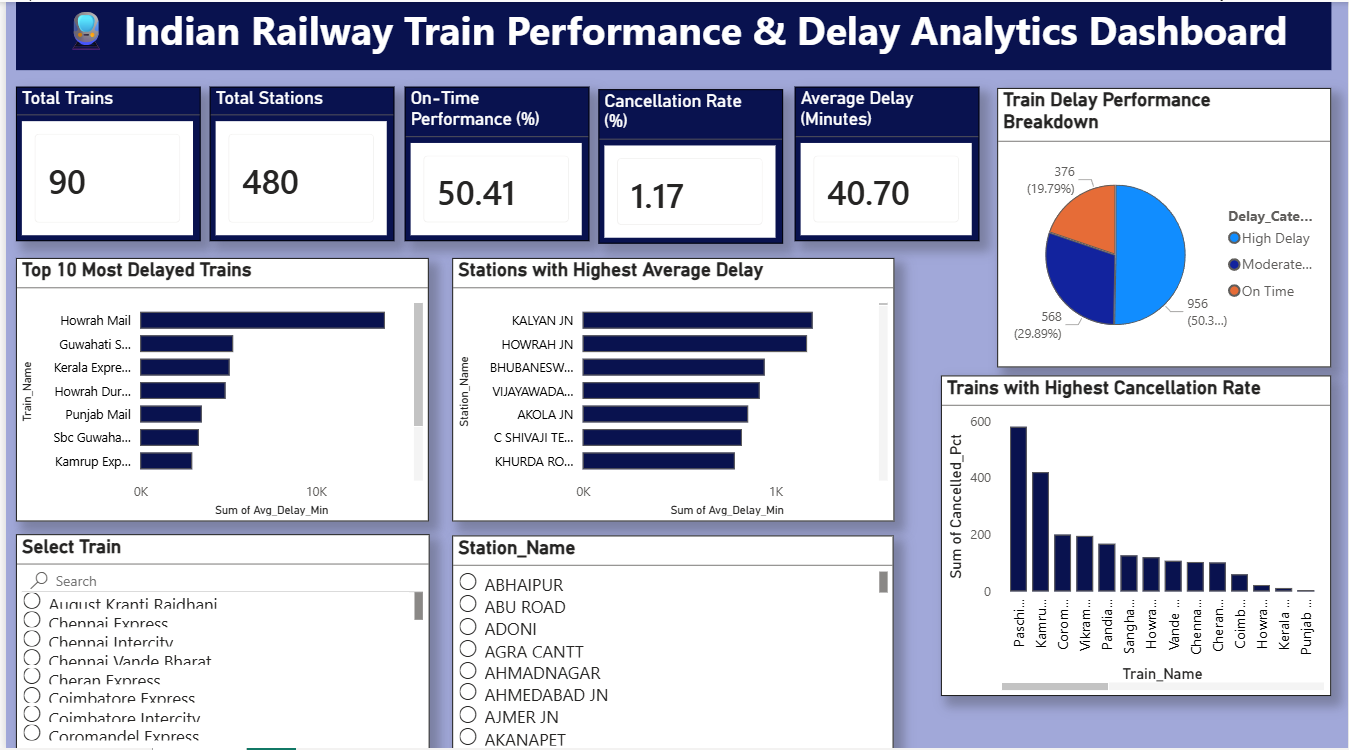

What the dashboard file says about the page in this screenshot:
{"tool":"powerbi","page":{"name":"Page 1","canvas":[1280,720],"ordinal":0},"visuals":[{"type":"textbox","box":[9.6,0,1254.2,68.6],"z":0},{"type":"cardVisual","title":"Total Trains","fields":{"Data":["etrain_delays.Total_Trains"]},"box":[9.6,85.1,175.6,146.8],"z":1000},{"type":"cardVisual","title":"Total Stations","fields":{"Data":["etrain_delays.Total_Stations"]},"box":[194.9,85.1,175.6,146.8],"z":2000},{"type":"cardVisual","title":"On-Time Performance (%)","fields":{"Data":["etrain_delays.Avg_Right_Time"]},"box":[380.1,85.1,175.6,146.8],"z":3000},{"type":"cardVisual","title":"Cancellation Rate (%)","fields":{"Data":["etrain_delays.Avg_Cancelled"]},"box":[565.4,86.4,175.6,146.8],"z":4000},{"type":"cardVisual","title":"Average Delay (Minutes)","fields":{"Data":["etrain_delays.Overall_Avg_Delay"]},"box":[752,85.1,175.6,146.8],"z":5000},{"type":"barChart","title":"Top 10 Most Delayed Trains","fields":{"Category":["etrain_delays.Train_Name"],"Y":["Sum(etrain_delays.Avg_Delay_Min)"]},"box":[9.6,248.4,393.8,251.1],"z":6000},{"type":"barChart","title":"Stations with Highest Average Delay","fields":{"Category":["etrain_delays.Station_Name"],"Y":["Sum(etrain_delays.Avg_Delay_Min)"]},"box":[425.4,248.4,421.3,251.1],"z":7000},{"type":"pieChart","title":"Train Delay Performance Breakdown","fields":{"Category":["etrain_delays.Delay_Category"],"Y":["CountNonNull(etrain_delays.Train_No)"]},"box":[945.1,85.5,318.3,266.4],"z":8000},{"type":"columnChart","title":"Trains with Highest Cancellation Rate","fields":{"Category":["etrain_delays.Train_Name"],"Y":["Sum(etrain_delays.Cancelled_Pct)"]},"box":[891.8,360.4,371.6,305.7],"z":9000},{"type":"listSlicer","title":"Select Train","fields":{"Values":["etrain_delays.Train_Name"]},"box":[9.8,511.8,394,207.5],"z":10000},{"type":"listSlicer","fields":{"Values":["etrain_delays.Station_Name"]},"box":[425,512,421,208],"z":10001}]}

Visuals, with their boxes in screenshot pixels (x1, y1, x2, y2), scaled from the page's 1280x720 canvas onto the 1349x750 screenshot:
textbox: 10:0:1332:71
"Total Trains" cardVisual: 10:89:195:242
"Total Stations" cardVisual: 205:89:390:242
"On-Time Performance (%)" cardVisual: 401:89:586:242
"Cancellation Rate (%)" cardVisual: 596:90:781:243
"Average Delay (Minutes)" cardVisual: 793:89:978:242
"Top 10 Most Delayed Trains" barChart: 10:259:425:520
"Stations with Highest Average Delay" barChart: 448:259:892:520
"Train Delay Performance Breakdown" pieChart: 996:89:1332:367
"Trains with Highest Cancellation Rate" columnChart: 940:375:1332:694
"Select Train" listSlicer: 10:533:426:749
listSlicer - etrain_delays.Station_Name: 448:533:892:749
